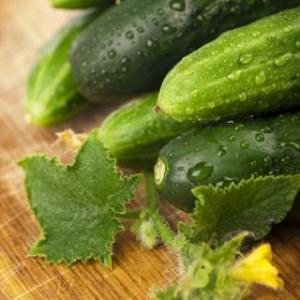cucumber: (68, 0, 300, 100), (150, 106, 300, 226), (152, 5, 300, 125), (27, 6, 115, 130)
